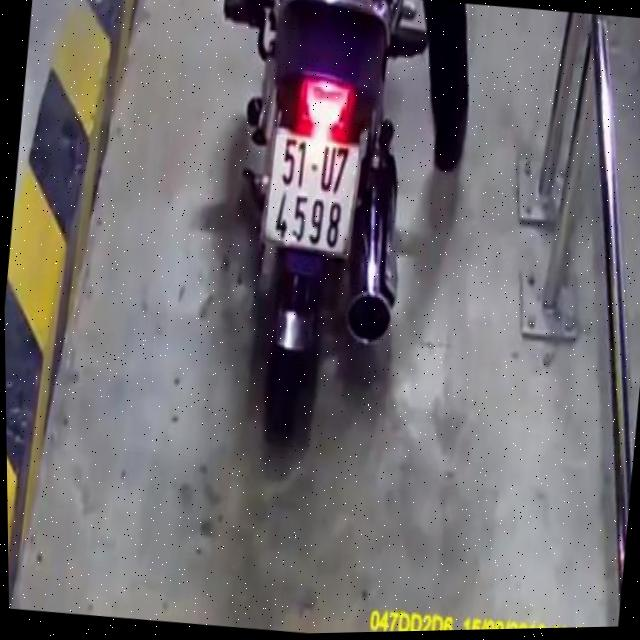motorcycle: (185, 0, 440, 478)
plate: (256, 118, 378, 267)
